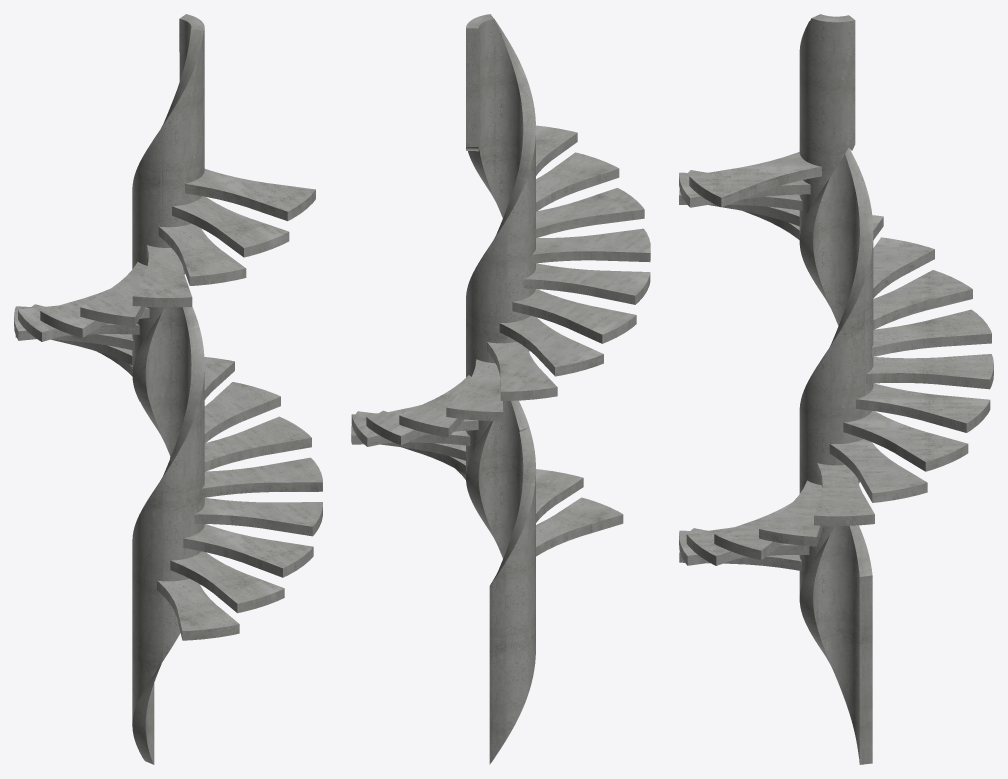
File: stair17.glb
3 views of the same model, side by side, from view 1: azimuth 30°, elevation 25°; view 2: azimuth 150°, elevation 25°; view 3: azimuth 270°, elevation 25° (orthographic). The views are drawn at different scales.
Visible parts, largest first — view 1: Stair 1 curv tread.002; view 2: Stair 1 curv tread.002; view 3: Stair 1 curv tread.002.
Part boxes in pixels (x1,y1,x2,y2): Stair 1 curv tread.002: (14,14,322,764); Stair 1 curv tread.002: (351,14,650,764); Stair 1 curv tread.002: (679,14,993,764).
Bounding box in the file's own units: 2.35 × 6.26 × 2.35.
1 material, 1 textured.
